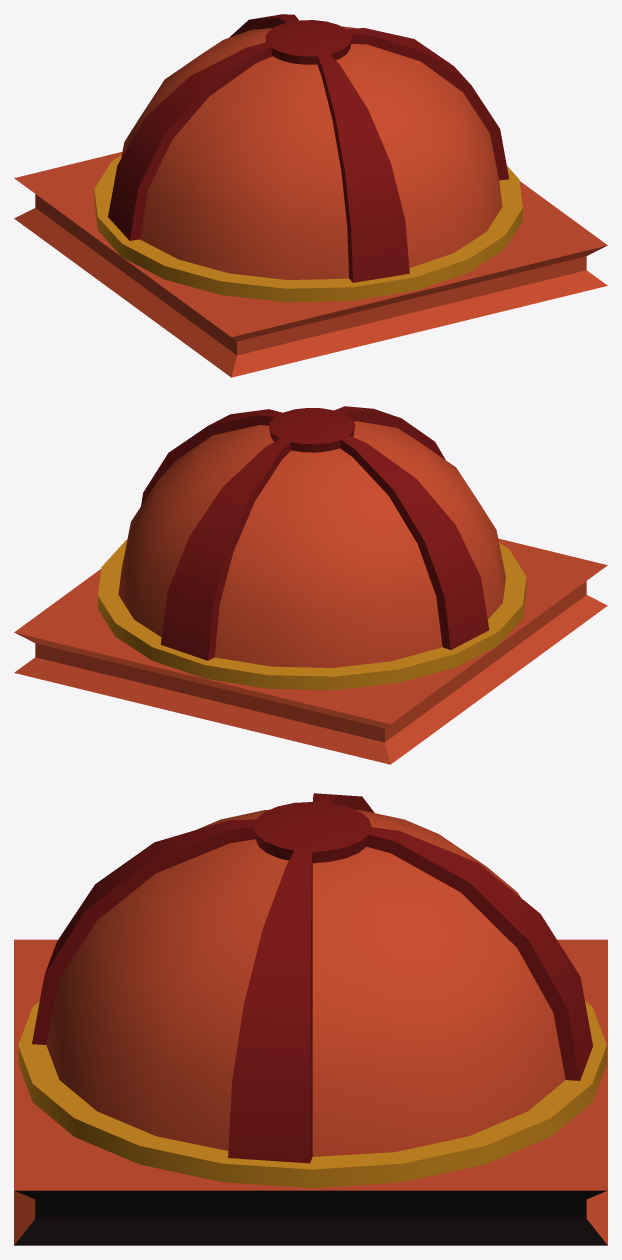
Rendered from Dome1.FBX.
3 renders of one model, top to bottom at view 1: azimuth 30°, elevation 25°; view 2: azimuth 150°, elevation 25°; view 3: azimuth 270°, elevation 25°, orthographic. The views are drawn at different scales.
Parts seen in each view (by area): view 1: Dome-1; view 2: Dome-1; view 3: Dome-1.
Part boxes in pixels (x1,y1,x2,y2): Dome-1: (14,14,607,377); Dome-1: (14,406,607,764); Dome-1: (14,793,607,1245).
Bounding box in the file's own units: 709 × 394 × 709.
